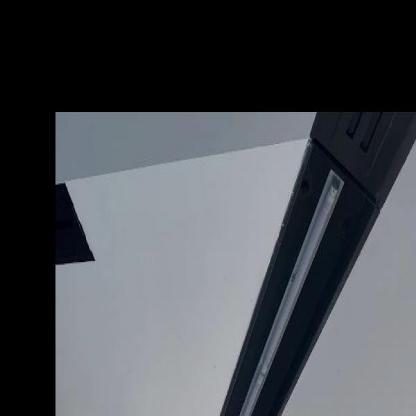light_off: (188, 158, 354, 414)
